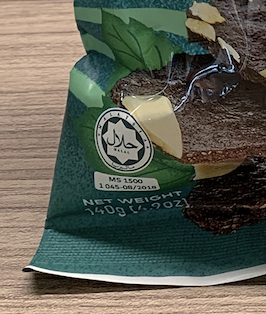halal: (102, 117, 145, 165)
